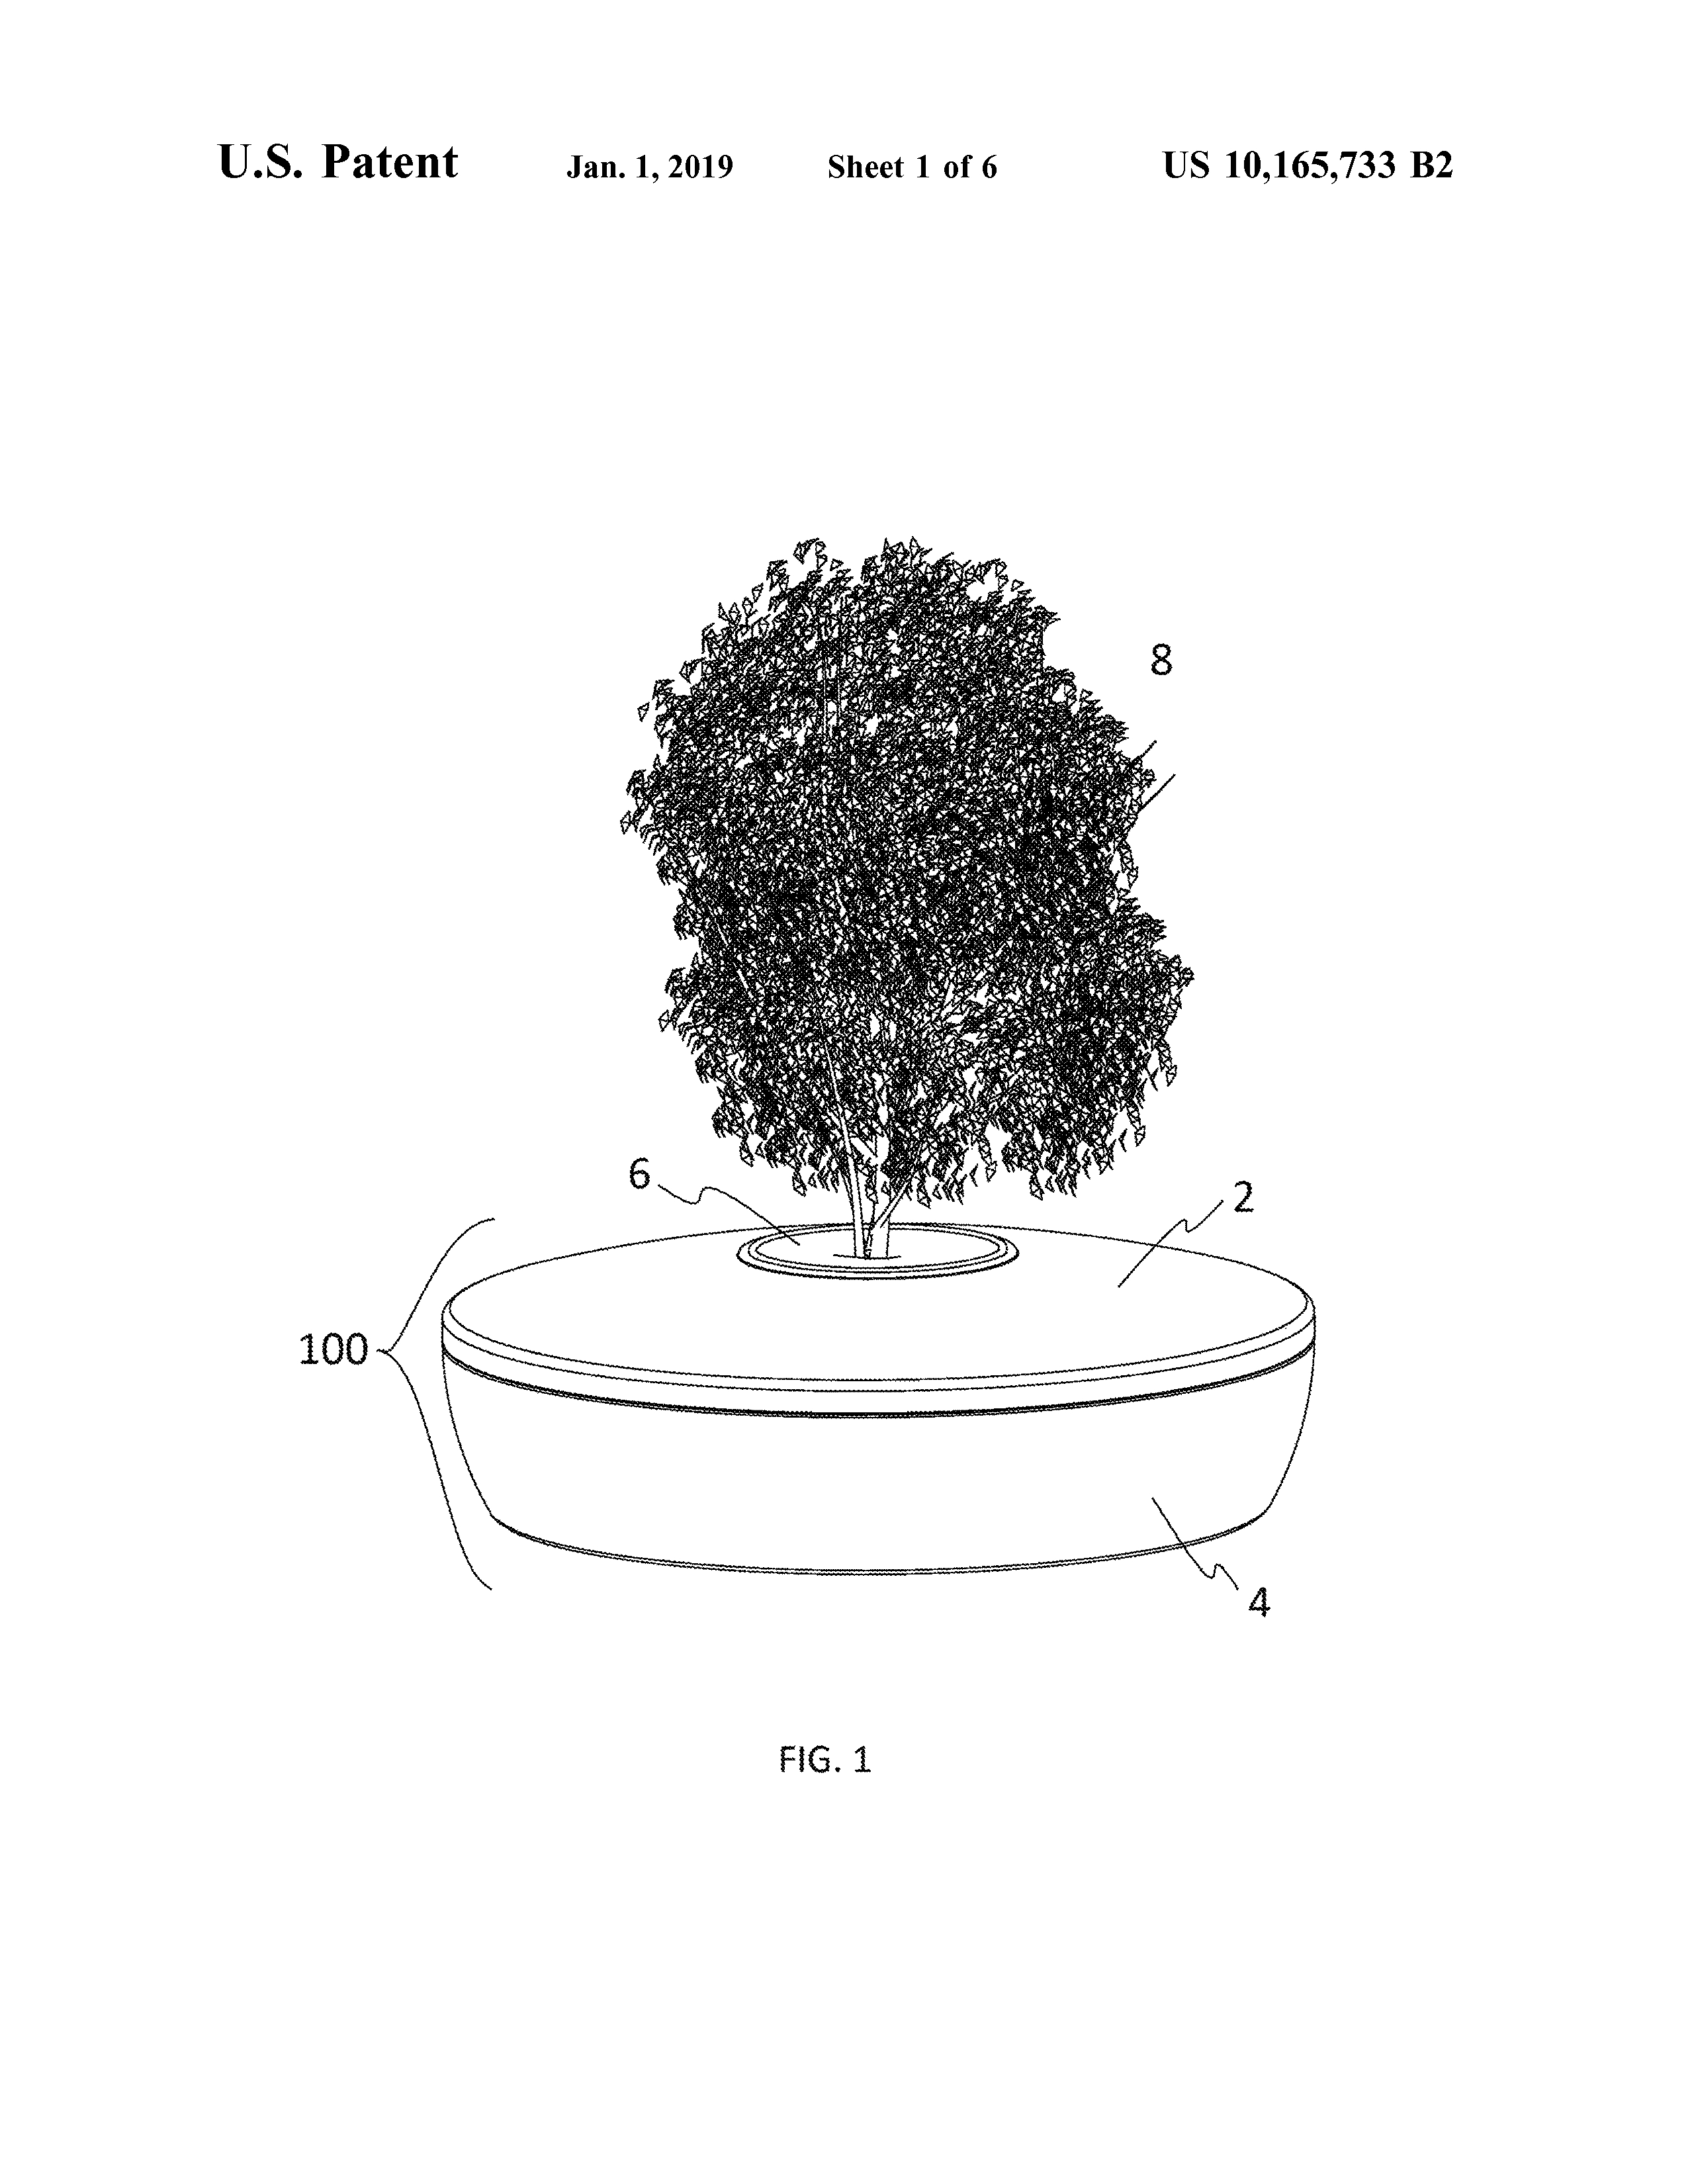patent image: (253, 486, 1406, 1844)
